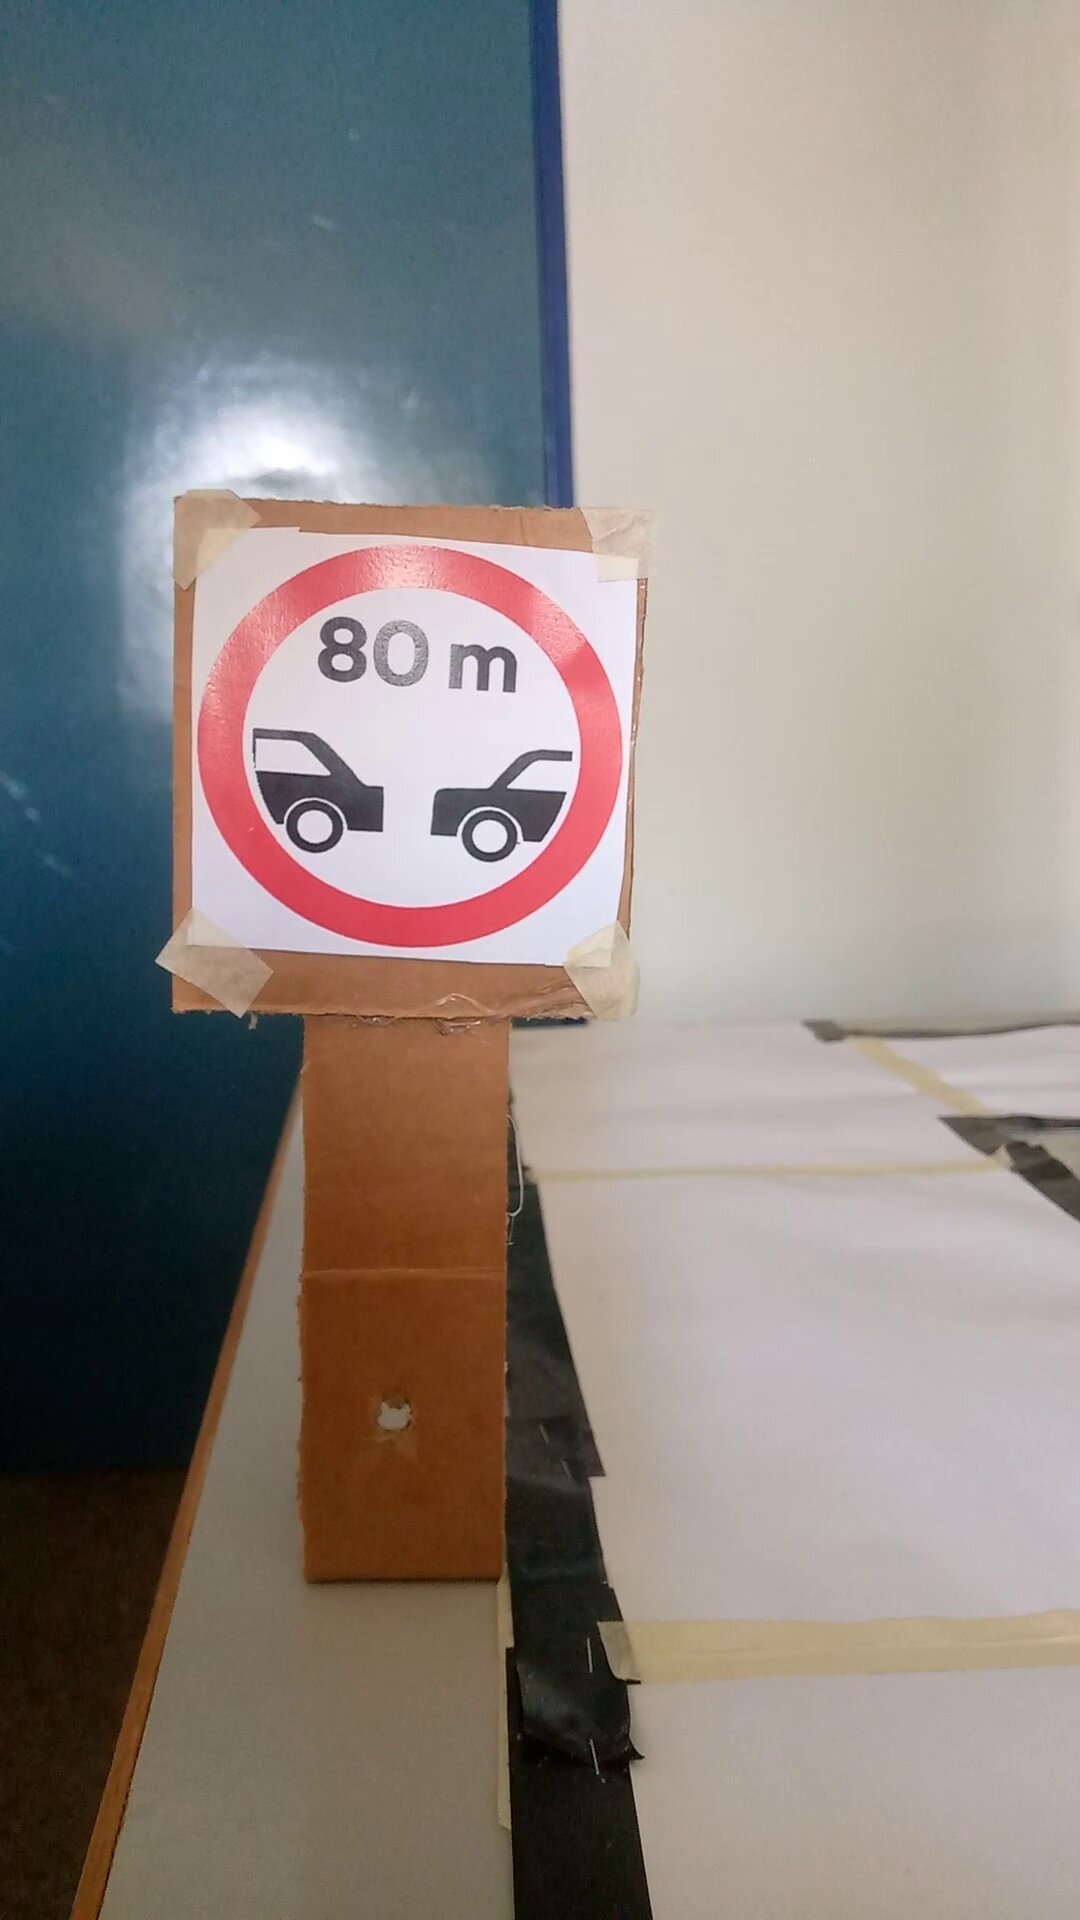panel001: (173, 497, 636, 1011)
